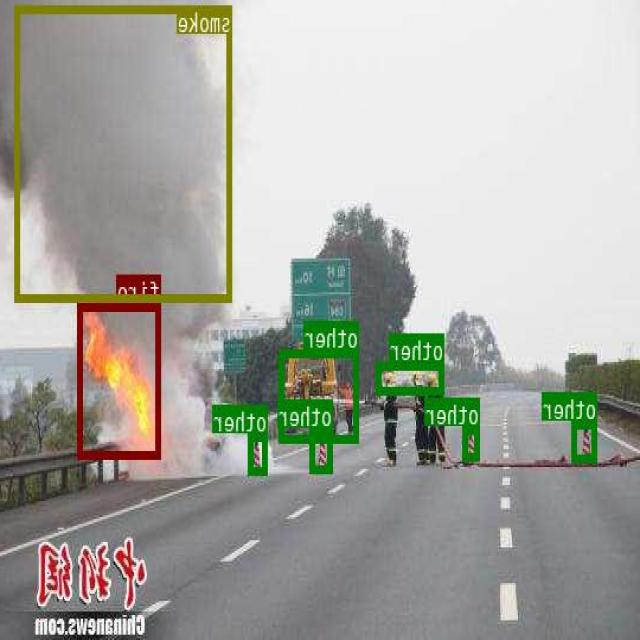fire: (79, 302, 162, 457)
other: (280, 349, 360, 441), (377, 361, 445, 393), (573, 420, 598, 462), (312, 428, 334, 471), (250, 433, 268, 474), (464, 425, 481, 459)
smoke: (16, 5, 233, 301)
